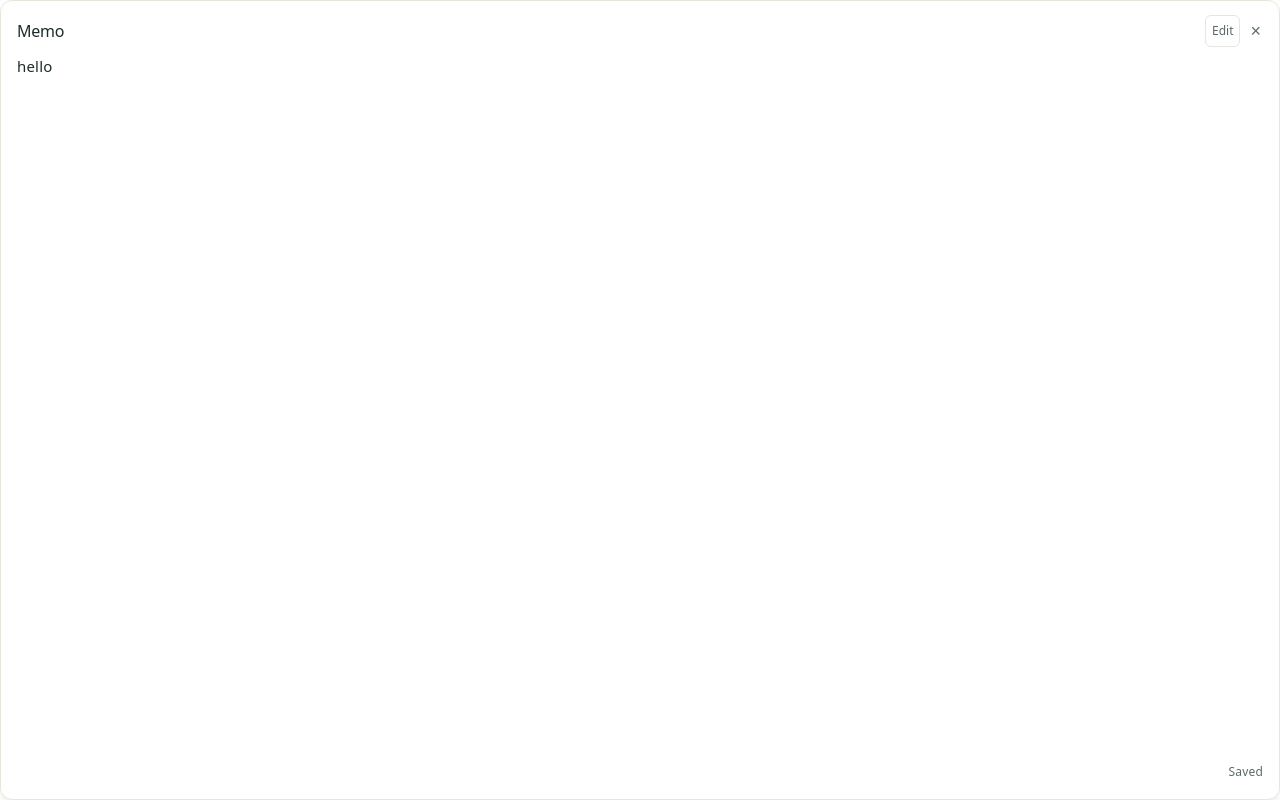
Test: Edit and Preview › Edit switches to the Markdown field with the note, and Preview switches back
Click the button with aria-label "Edit note".
click(1223, 31)  # box [1205,15,1240,47]
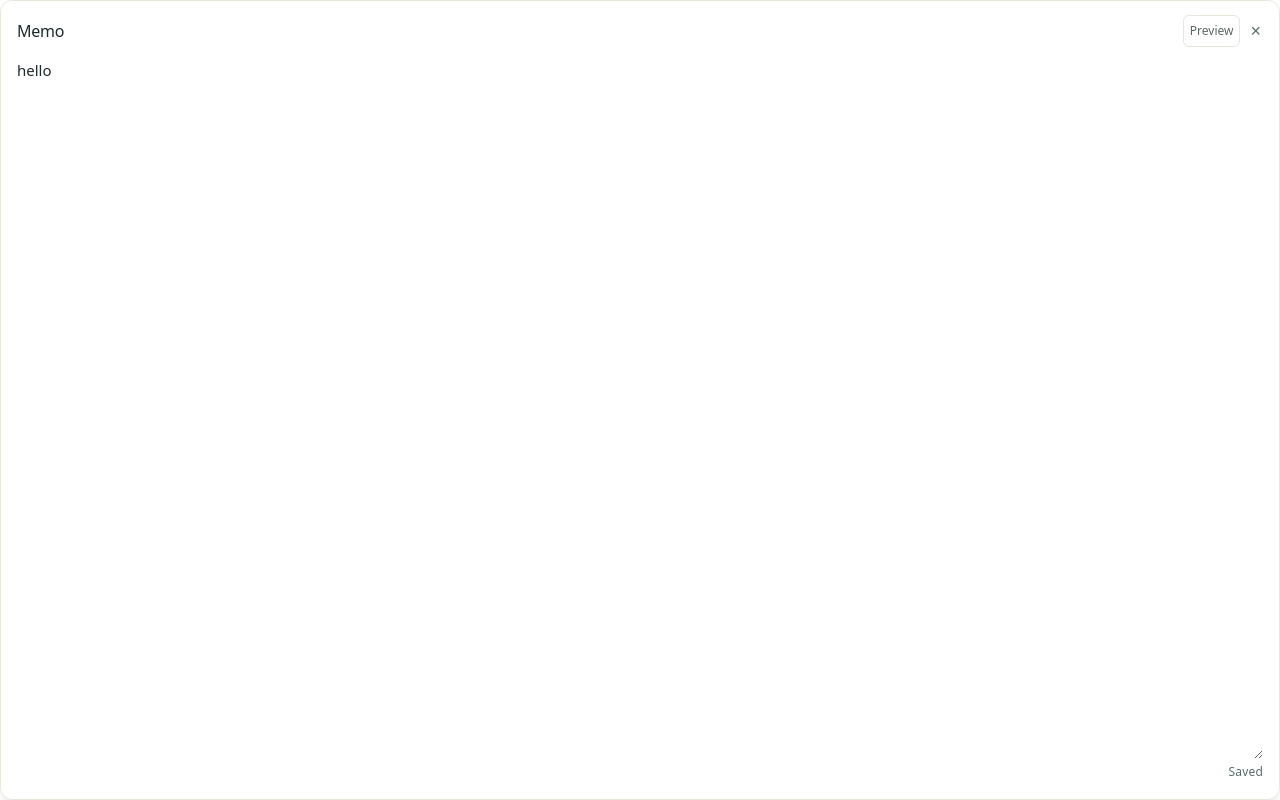
Expected: the text box named "Sticky note Markdown" holds "hello"
Expected: the button with aria-label "Preview Markdown" reads "Preview"
Click the button with aria-label "Preview Markdown".
click(1212, 31)  # box [1183,15,1240,47]
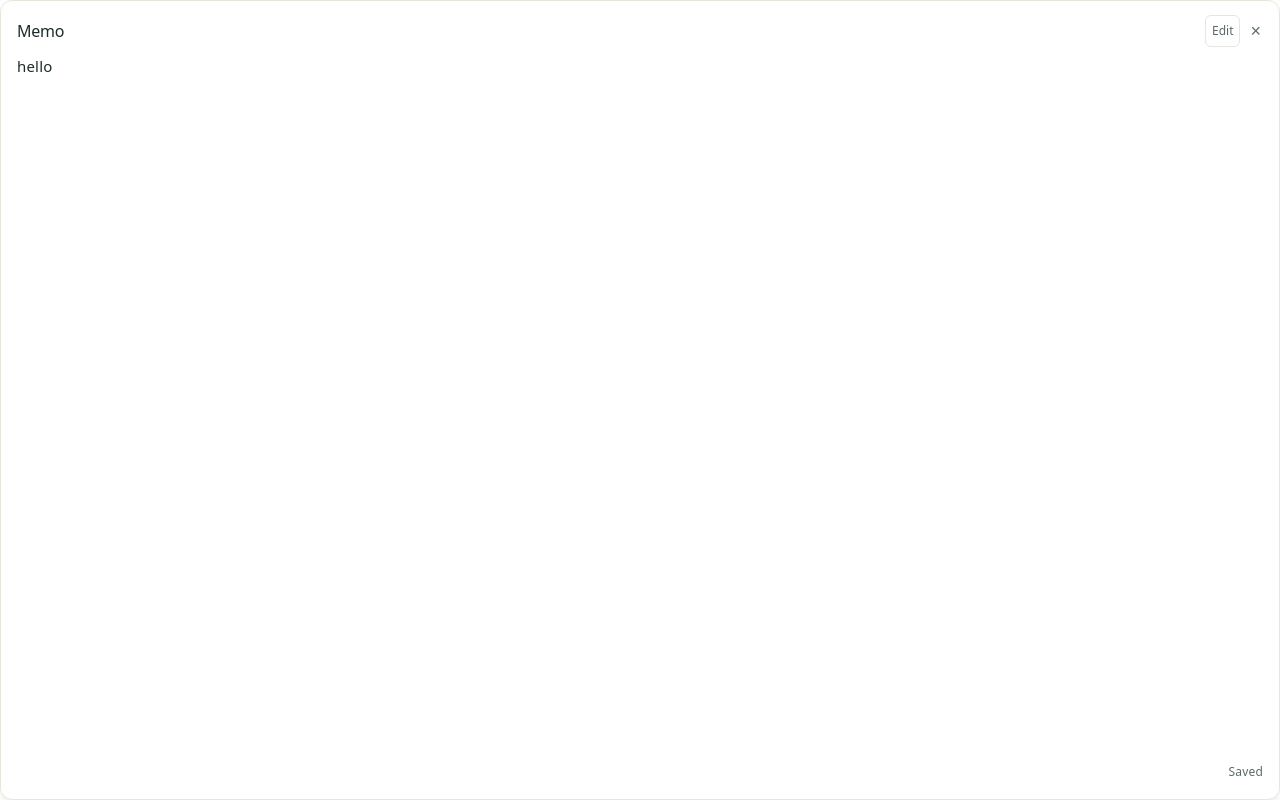
Expected: the text "hello" is shown, [17,56,52,76]
Expected: the button with aria-label "Edit note" reads "Edit", [1205,15,1240,47]
